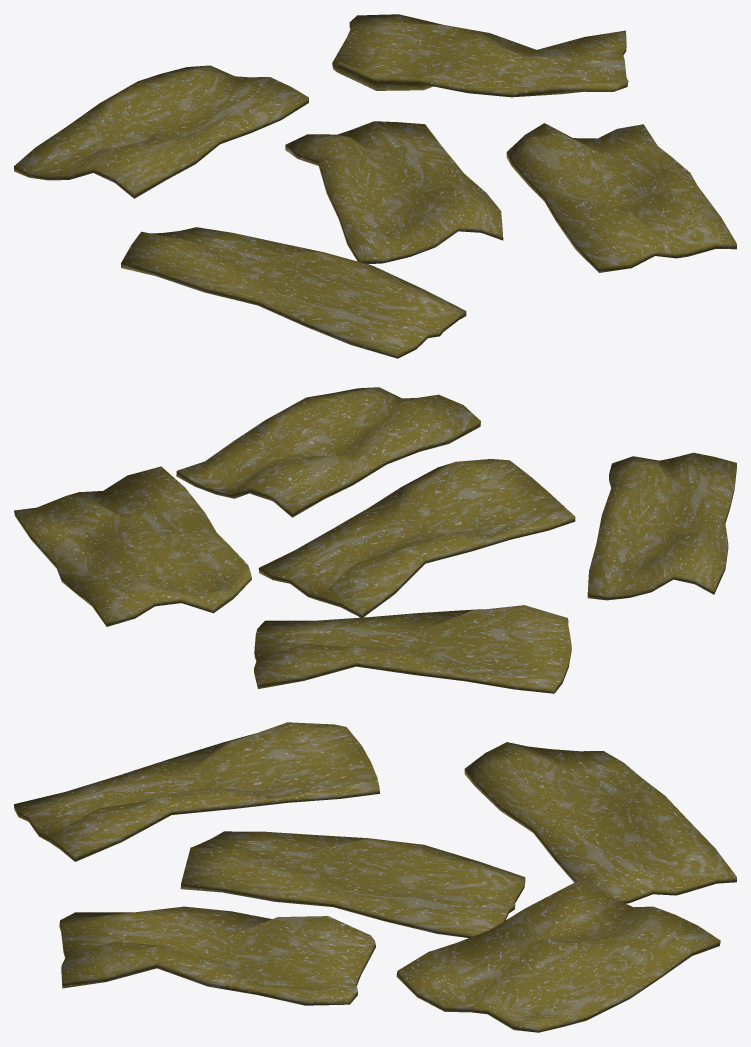
File: yakiniku_00_d.glb
The picture shows the model from 3 angles, top to bottom: view 1: azimuth 30°, elevation 25°; view 2: azimuth 150°, elevation 25°; view 3: azimuth 270°, elevation 25°; orthographic projection. The views are drawn at different scales.
Visible parts, largest first — view 1: yakiniku; view 2: yakiniku; view 3: yakiniku.
Part boxes in pixels (bbox=[...]): yakiniku: bbox=[14, 14, 736, 358]; yakiniku: bbox=[14, 387, 736, 693]; yakiniku: bbox=[14, 722, 736, 1032].
Bounding box in the file's own units: 0.1808 × 0.0133 × 0.1797.
1 material, 1 textured.
